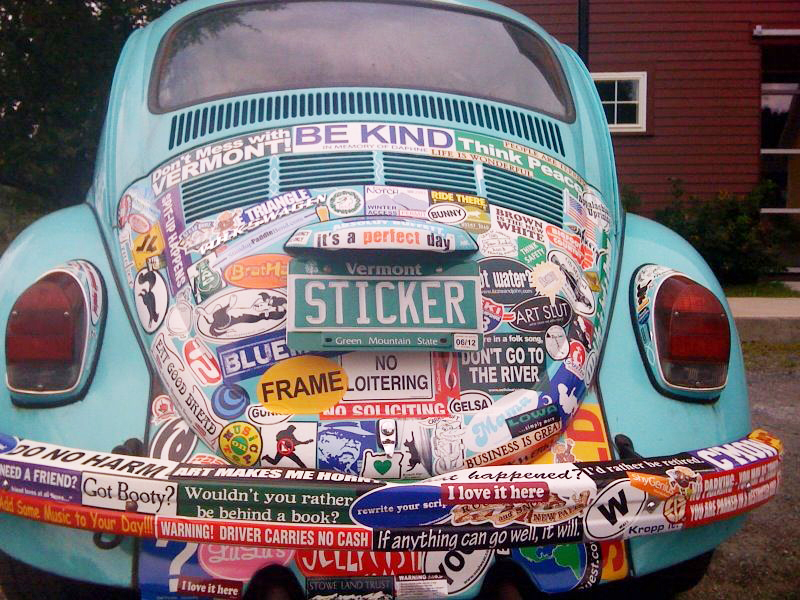license plate: (293, 273, 482, 333)
